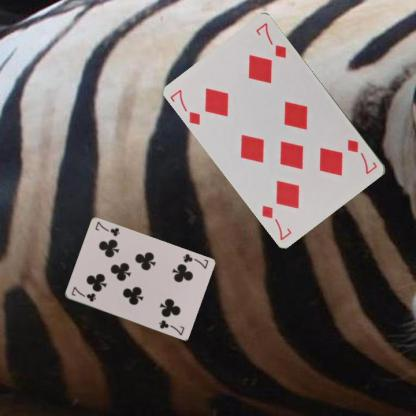7c: (68, 284, 97, 304), (180, 252, 209, 270)
7d: (345, 136, 379, 176), (168, 86, 202, 126)
